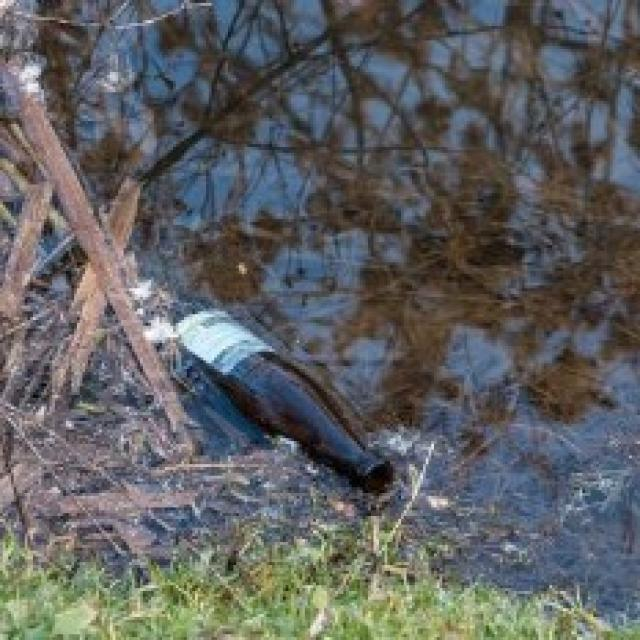electronic: (154, 279, 406, 503)
